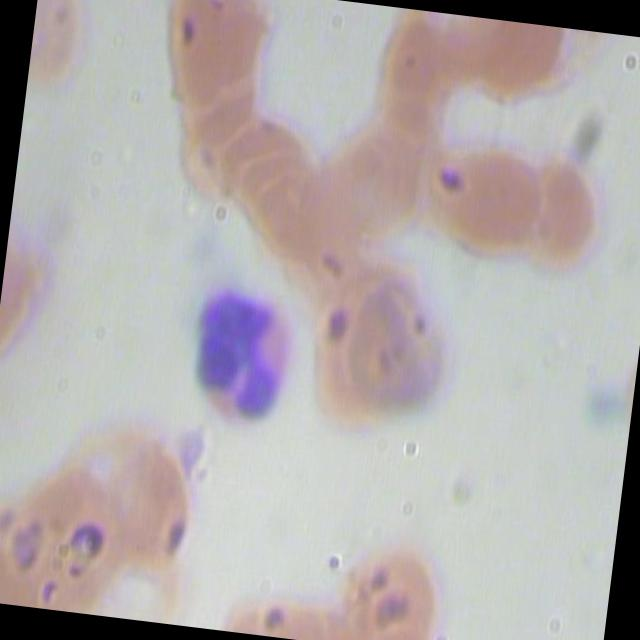RBC: (339, 263, 470, 425), (416, 128, 538, 262), (306, 112, 426, 248), (97, 437, 217, 573), (502, 154, 624, 284), (332, 518, 453, 640), (151, 0, 271, 113)
WBC: (178, 281, 298, 434)
